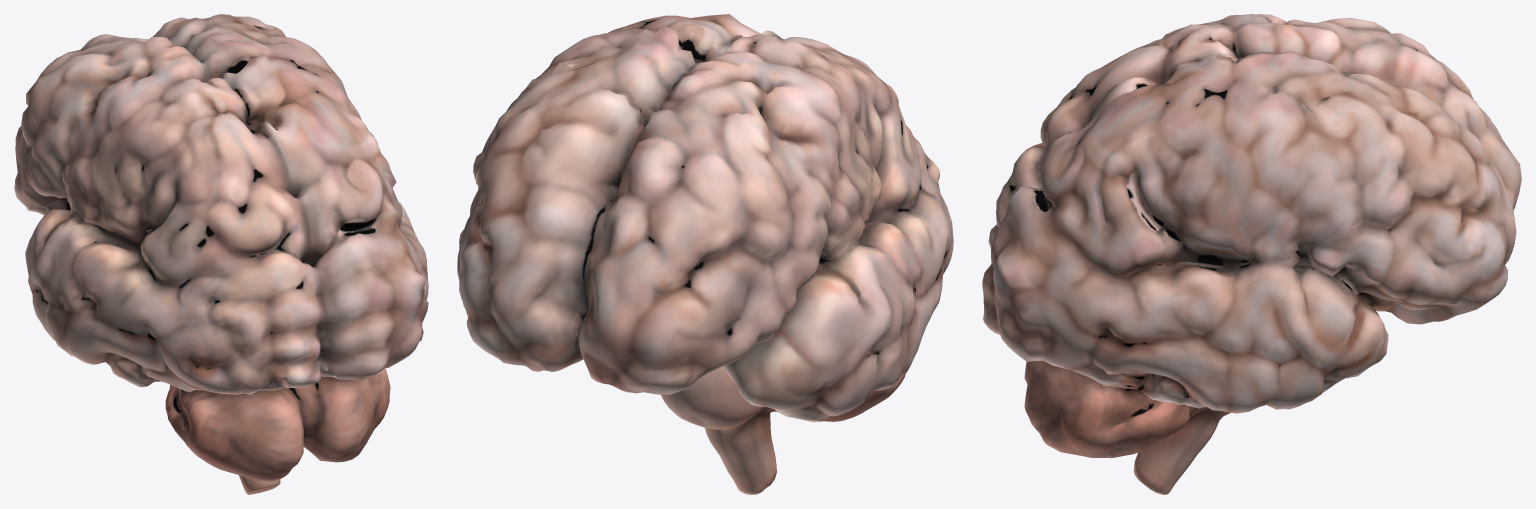
File: brainjunk.obj
3 renders of one model, left to right at view 1: azimuth 30°, elevation 25°; view 2: azimuth 150°, elevation 25°; view 3: azimuth 270°, elevation 25°, orthographic. The views are drawn at different scales.
Visible parts, largest first — view 1: Group95701; view 2: Group95701; view 3: Group95701.
Boxes of the visible parts, x1,y1,x2,y2 form: Group95701: (14,14,428,494); Group95701: (457,14,953,494); Group95701: (982,14,1521,494).
Size of the model in its own units: 1436 by 1677 by 1819.
2 materials, 2 textured.
